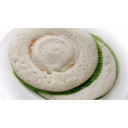dosa: (10, 30, 118, 97)
